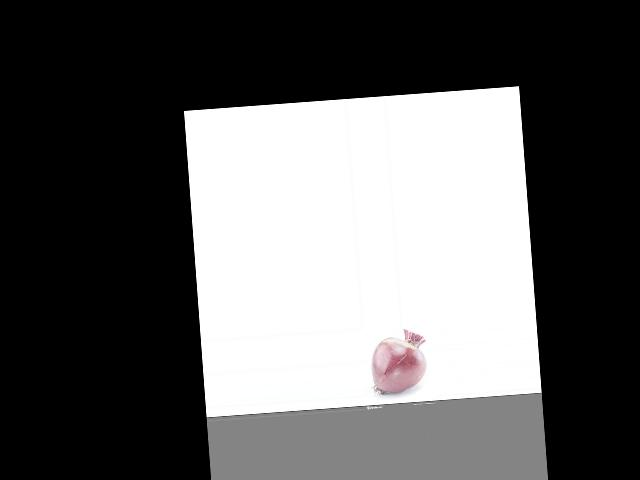beet: (369, 328, 429, 394)
